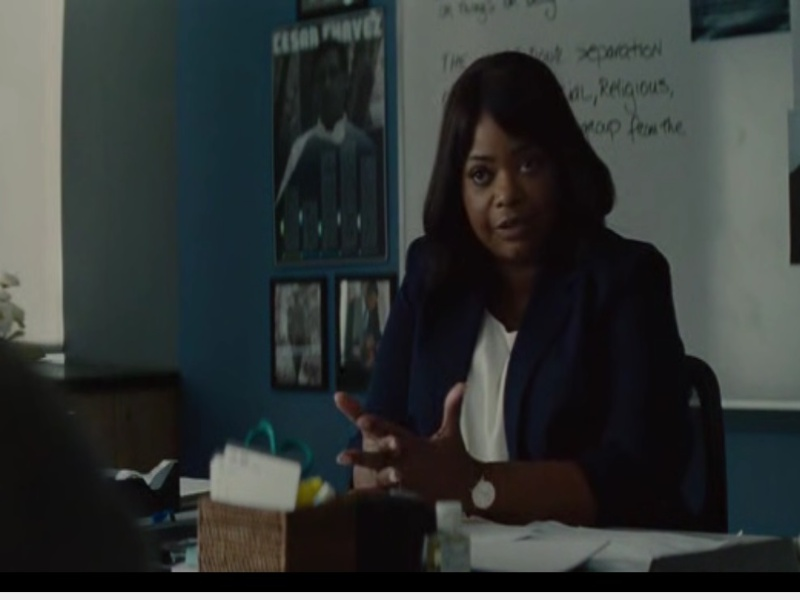TsisyArotava: (447, 97, 566, 270)
